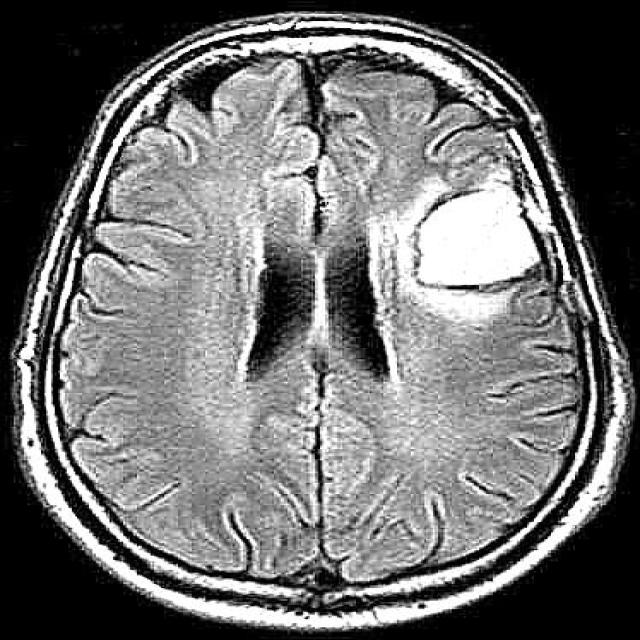Tumor-Cell: (409, 165, 528, 300)
